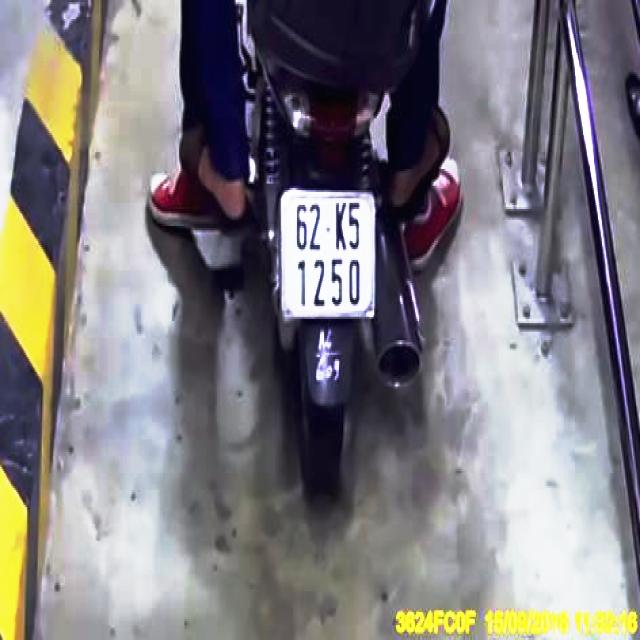license_plate: (284, 195, 378, 318)
